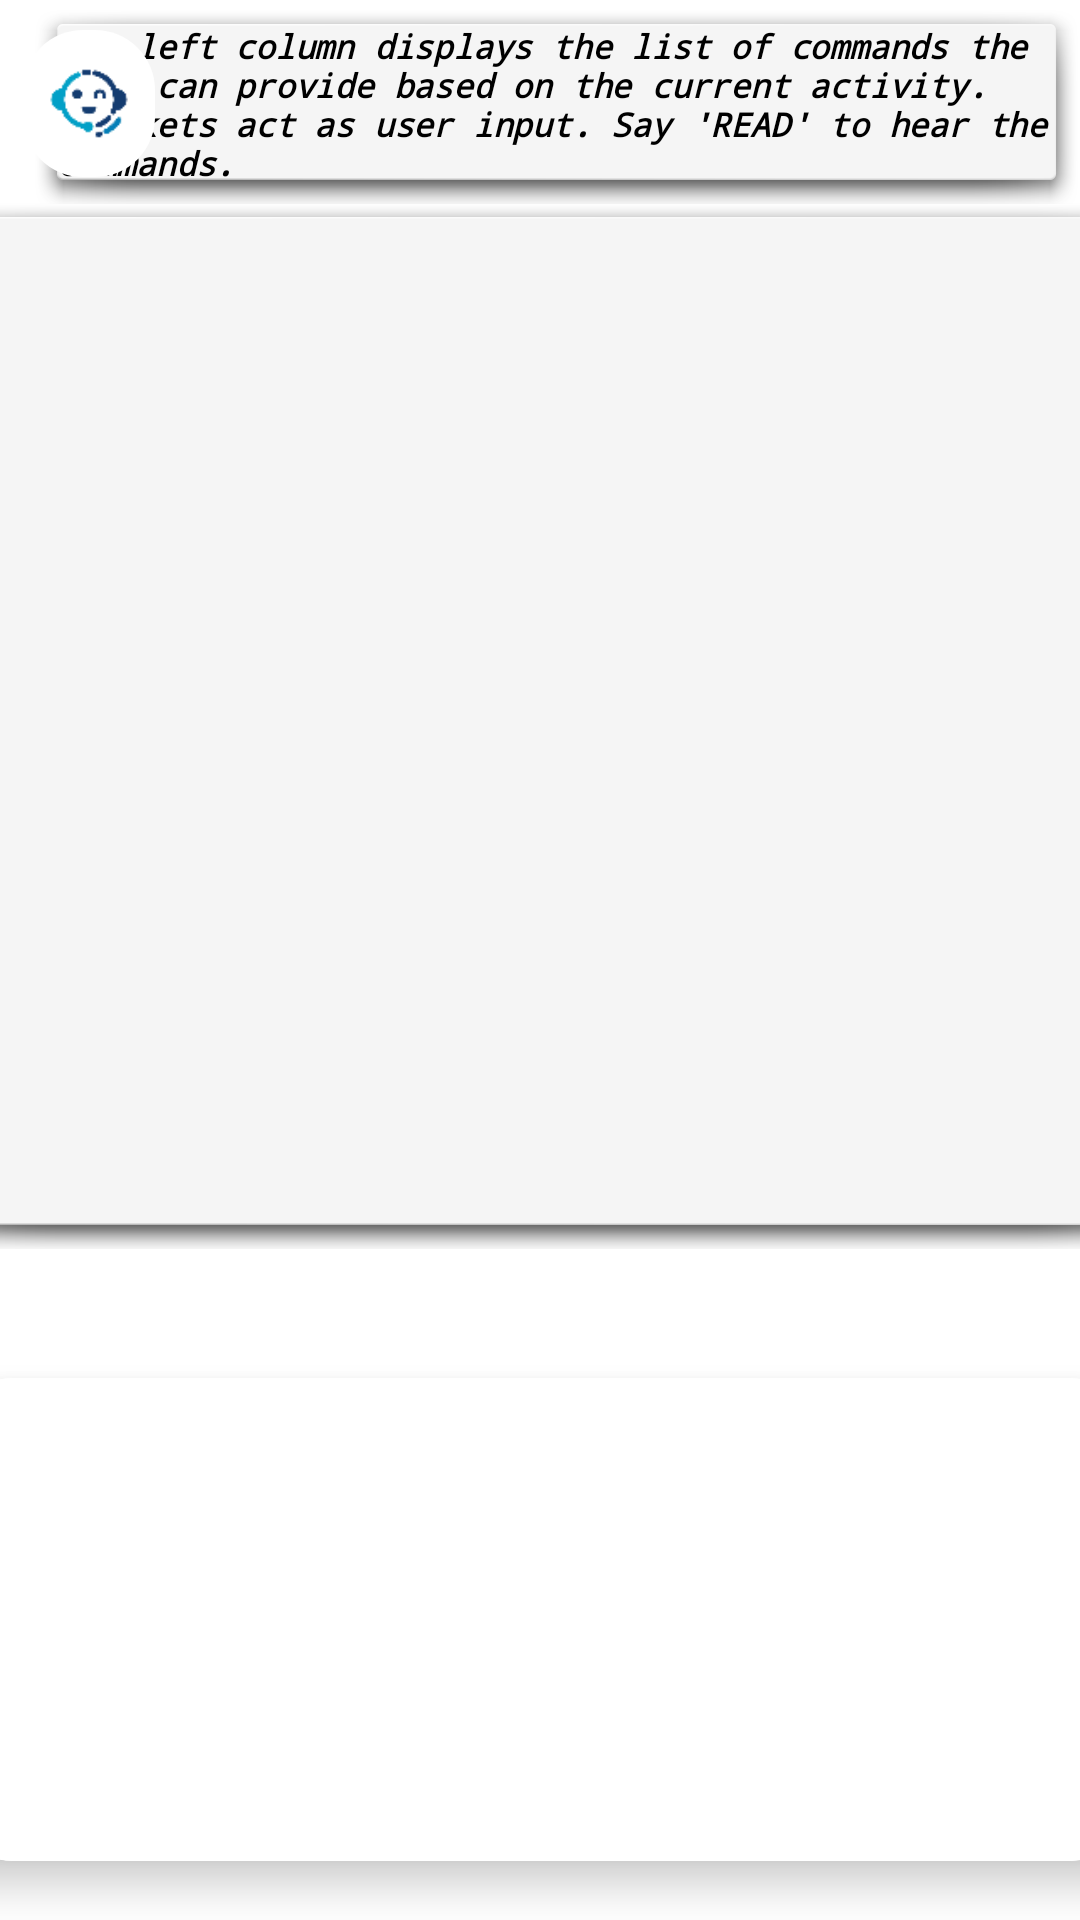

Point at icon controls on the screen. Image size 1080w x 1920h, points as (x,y).
helpbotresized: (102,103)
